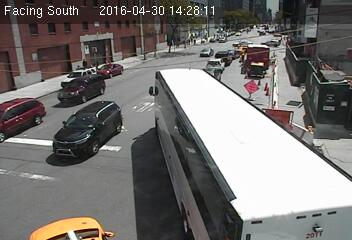neg: (325, 104, 347, 132), (53, 115, 70, 138), (103, 106, 119, 128), (258, 77, 273, 96), (311, 82, 325, 100), (284, 39, 297, 56), (237, 76, 249, 93), (31, 70, 42, 85), (132, 46, 143, 60), (53, 71, 64, 85), (28, 27, 37, 39), (117, 36, 125, 48), (268, 7, 276, 18), (102, 24, 109, 34), (260, 17, 267, 27), (64, 26, 71, 35), (271, 31, 278, 40), (306, 71, 313, 80)
pos: (79, 56, 90, 71), (92, 60, 102, 73), (188, 32, 197, 44), (174, 39, 182, 49), (202, 32, 210, 41), (211, 31, 218, 41), (245, 26, 252, 35)
